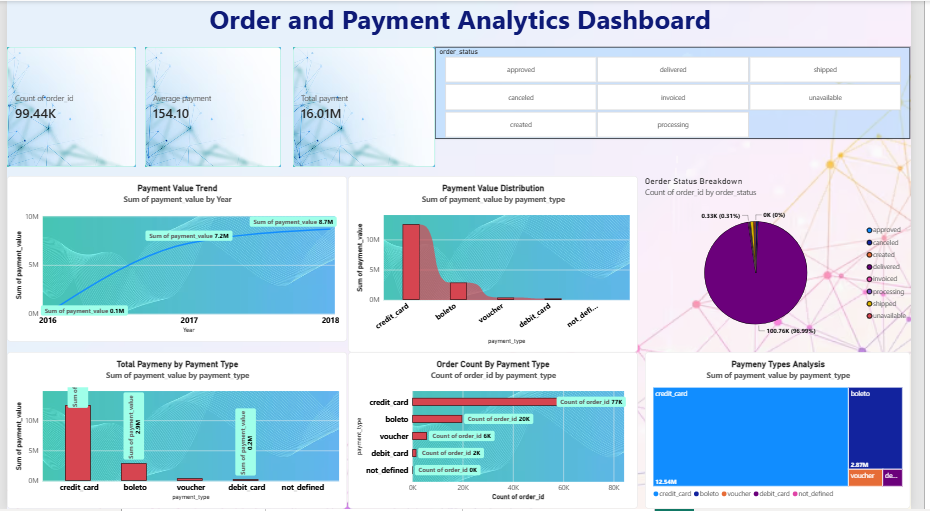

The page's visual inventory and layout, read from the dashboard file:
{"tool":"powerbi","page":{"name":"Order And payment Analysis","canvas":[1920,1080],"ordinal":1},"visuals":[{"type":"cardVisual","fields":{"Data":["Count(olist_order_payments_dataset.order_id)"]},"box":[0,98.7,274.6,255.3],"z":0},{"type":"clusteredColumnChart","title":"Total Paymeny by Payment Type","fields":{"Category":["olist_order_payments_dataset.payment_type"],"Y":["Sum(olist_order_payments_dataset.payment_value)"]},"box":[0,746.5,722.9,332.5],"z":1000},{"type":"pieChart","title":"Oerder Status Breakdown","fields":{"Series":["olist_orders_dataset.order_status"],"Y":["CountNonNull(olist_order_payments_dataset.order_id)"]},"box":[1355.8,371.1,564.2,351.8],"z":2000},{"type":"slicer","fields":{"Values":["olist_orders_dataset.order_status"]},"box":[909.6,98.7,1010.4,195.2],"z":3000},{"type":"lineChart","title":"Payment Value Trend","fields":{"Category":["olist_orders_dataset.order_purchase_timestamp.Variation.Date Hierarchy.Year","olist_orders_dataset.order_purchase_timestamp.Variation.Date Hierarchy.Quarter","olist_orders_dataset.order_purchase_timestamp.Variation.Date Hierarchy.Month","olist_orders_dataset.order_purchase_timestamp.Variation.Date Hierarchy.Day"],"Y":["Sum(olist_order_payments_dataset.payment_value)"]},"box":[0,371.1,722.9,351.8],"z":4000},{"type":"treemap","title":"Paymeny Types Analysis","fields":{"Group":["olist_order_payments_dataset.payment_type"],"Values":["Sum(olist_order_payments_dataset.payment_value)"]},"box":[1355.8,746.5,564.2,332.5],"z":5000},{"type":"barChart","title":"Order Count By Payment Type","fields":{"Category":["olist_order_payments_dataset.payment_type"],"Y":["CountNonNull(olist_order_payments_dataset.order_id)"]},"box":[725.1,746.5,615.7,332.5],"z":6000},{"type":"cardVisual","fields":{"Data":["olist_customers_dataset.Average payment"]},"box":[293.9,98.7,289.6,255.3],"z":7000},{"type":"cardVisual","fields":{"Data":["olist_customers_dataset.Total payment"]},"box":[607.1,98.7,302.5,255.3],"z":8000},{"type":"ribbonChart","title":"Payment Value Distribution","fields":{"Category":["olist_order_payments_dataset.payment_type"],"Y":["Sum(olist_order_payments_dataset.payment_value)"]},"box":[725.1,371.1,615.7,375.4],"z":9000},{"type":"textbox","box":[47.2,0,1791.3,98.7],"z":10000}]}

Visuals, with their boxes in screenshot pixels (x1, y1, x2, y2), scaled from the page's 1920x1080 canvas onto the 930x511 screenshot:
cardVisual - Count(olist_order_payments_dataset.order_id): [0,47,133,167]
"Total Paymeny by Payment Type" clusteredColumnChart: [0,353,350,510]
"Oerder Status Breakdown" pieChart: [657,176,929,342]
slicer - olist_orders_dataset.order_status: [441,47,929,139]
"Payment Value Trend" lineChart: [0,176,350,342]
"Paymeny Types Analysis" treemap: [657,353,929,510]
"Order Count By Payment Type" barChart: [351,353,649,510]
cardVisual - olist_customers_dataset.Average payment: [142,47,283,167]
cardVisual - olist_customers_dataset.Total payment: [294,47,441,167]
"Payment Value Distribution" ribbonChart: [351,176,649,353]
textbox: [23,0,891,47]
